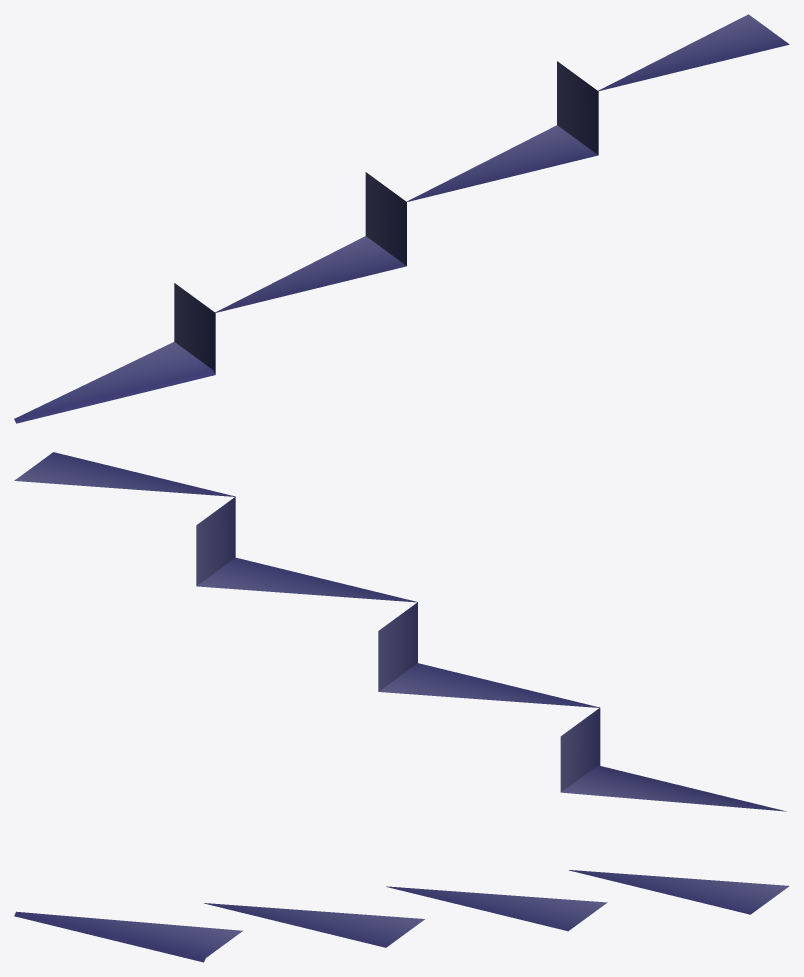
3 views of the same model, one above another, from view 1: azimuth 30°, elevation 25°; view 2: azimuth 150°, elevation 25°; view 3: azimuth 330°, elevation 25° (orthographic). The views are drawn at different scales.
Parts seen in each view (by area): view 1: Joint_0_Object_0; view 2: Joint_0_Object_0; view 3: Joint_0_Object_0.
Part boxes in pixels (x1,y1,x2,y2): Joint_0_Object_0: (14, 14, 789, 423); Joint_0_Object_0: (14, 452, 786, 811); Joint_0_Object_0: (14, 870, 789, 962).
Size of the model in its own units: 3902 by 917 by 362.
1 material, 1 textured.
